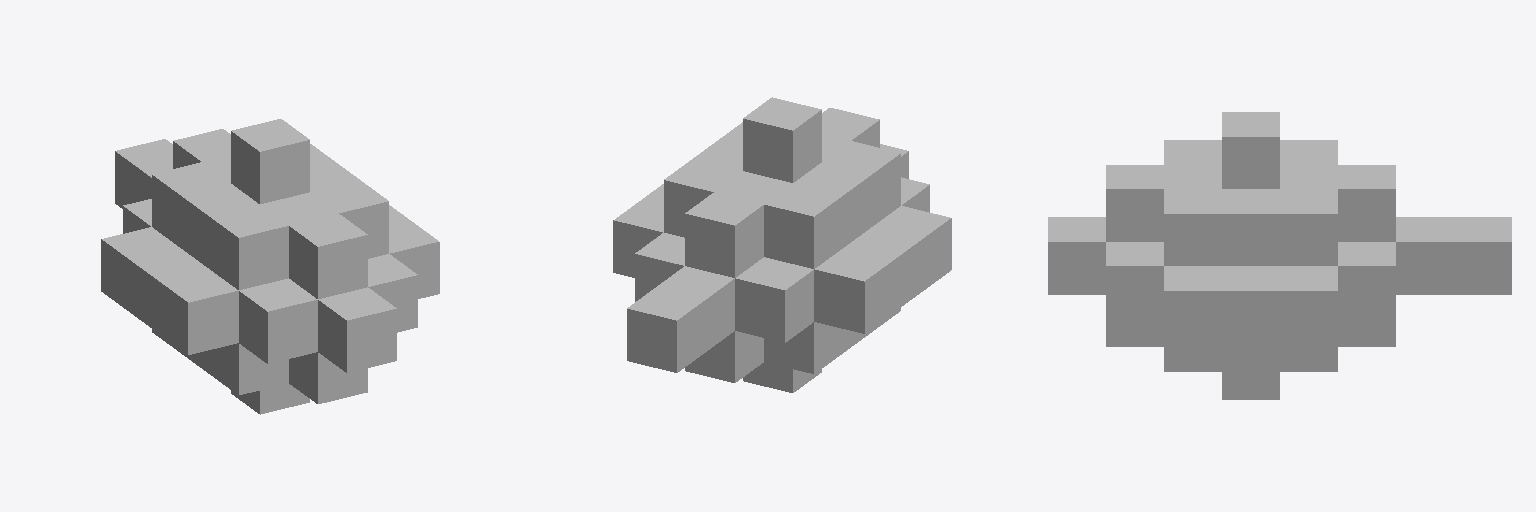
Rendered from ice.obj.
3 views of the same model, side by side, from view 1: azimuth 30°, elevation 25°; view 2: azimuth 150°, elevation 25°; view 3: azimuth 270°, elevation 25° (orthographic).
Visible parts, largest first — view 1: object 1; view 2: object 1; view 3: object 1.
Part boxes in pixels (bbox=[...]): object 1: bbox=[101, 119, 439, 414]; object 1: bbox=[613, 97, 951, 392]; object 1: bbox=[1048, 112, 1511, 399].
Bounding box in the file's own units: 0.5 × 0.5 × 0.8.